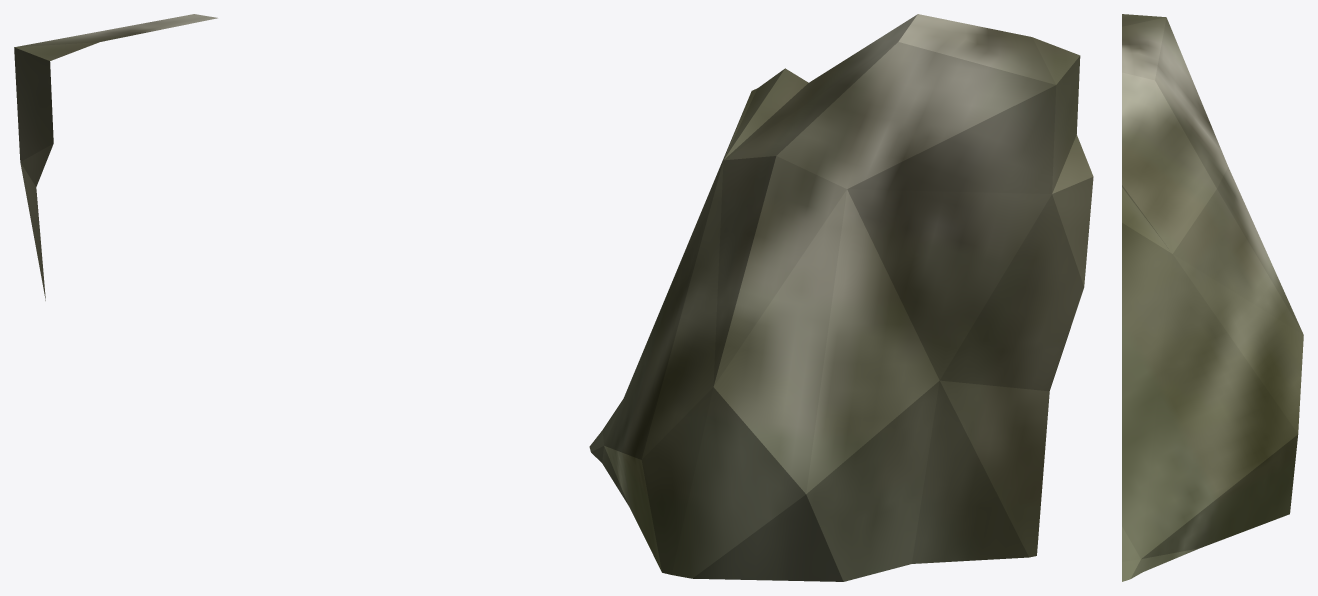
The picture shows the model from 3 angles, left to right: view 1: azimuth 30°, elevation 25°; view 2: azimuth 150°, elevation 25°; view 3: azimuth 270°, elevation 25°; orthographic projection. The views are drawn at different scales.
Bounding box in the file's own units: 0.5148 × 0.5052 × 0.2123.
1 material, 1 textured.
